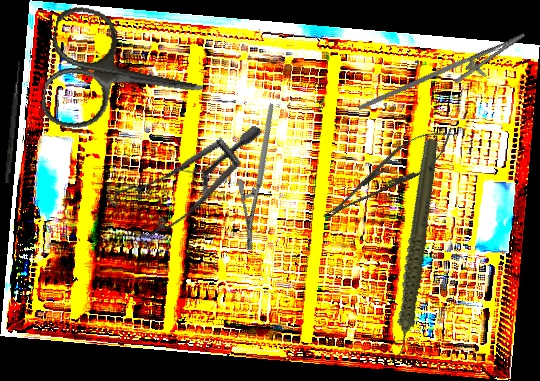Handpiece: (341, 135, 484, 366)
Hook Surgical: (4, 60, 22, 184)
Iris Scissors: (38, 2, 214, 150)
Needle Holder: (357, 13, 533, 142), (312, 115, 464, 234), (204, 103, 318, 252)
Speculum: (95, 81, 264, 271)
